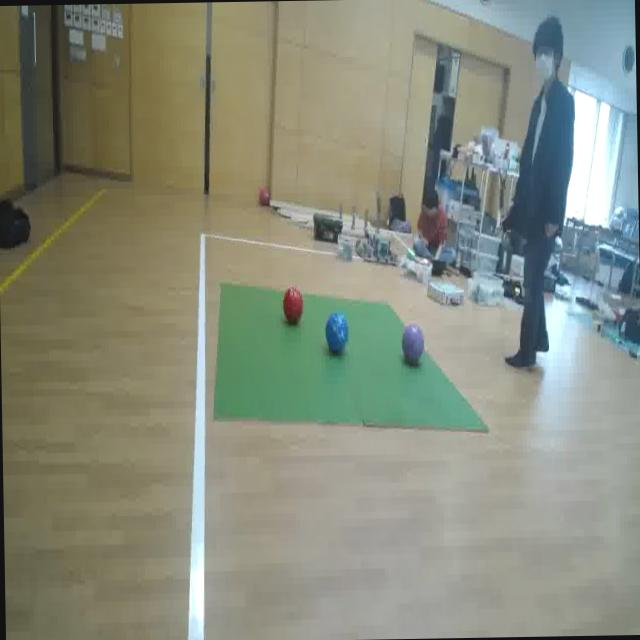blue_ball: (324, 312, 348, 351)
purple_ball: (401, 323, 424, 364)
red_ball: (283, 287, 303, 325)
